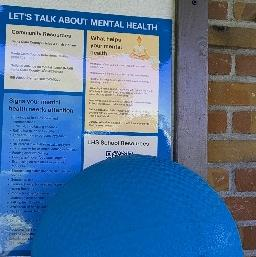algae: (33, 152, 238, 257)
